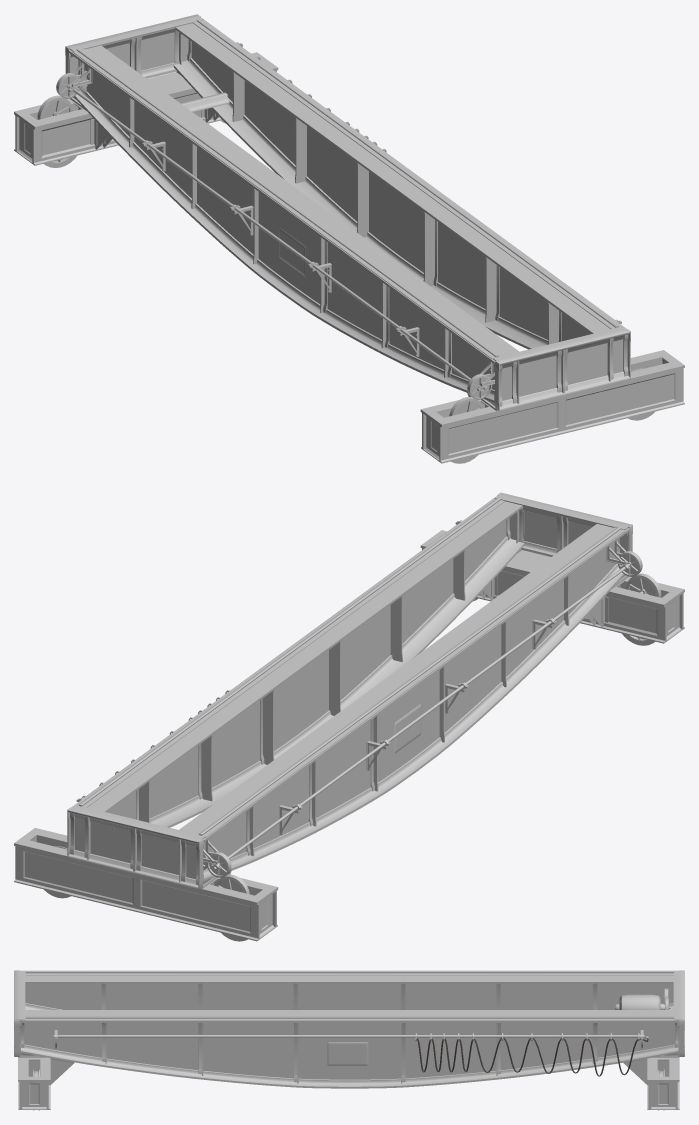
The model's file is sm_CraneMain_OneMesh_01_01.fbx.
The picture shows the model from 3 angles, top to bottom: view 1: azimuth 30°, elevation 25°; view 2: azimuth 150°, elevation 25°; view 3: azimuth 270°, elevation 25°; orthographic projection. The views are drawn at different scales.
Visible parts, largest first — view 1: sm_CraneMain_OneMesh_01_01_LOD0; view 2: sm_CraneMain_OneMesh_01_01_LOD0; view 3: sm_CraneMain_OneMesh_01_01_LOD0.
Part boxes in pixels (x1,y1,x2,y2): sm_CraneMain_OneMesh_01_01_LOD0: [14, 14, 684, 463]; sm_CraneMain_OneMesh_01_01_LOD0: [14, 492, 684, 941]; sm_CraneMain_OneMesh_01_01_LOD0: [14, 970, 684, 1110].
Bounding box in the file's own units: 232 × 716 × 95.3.
